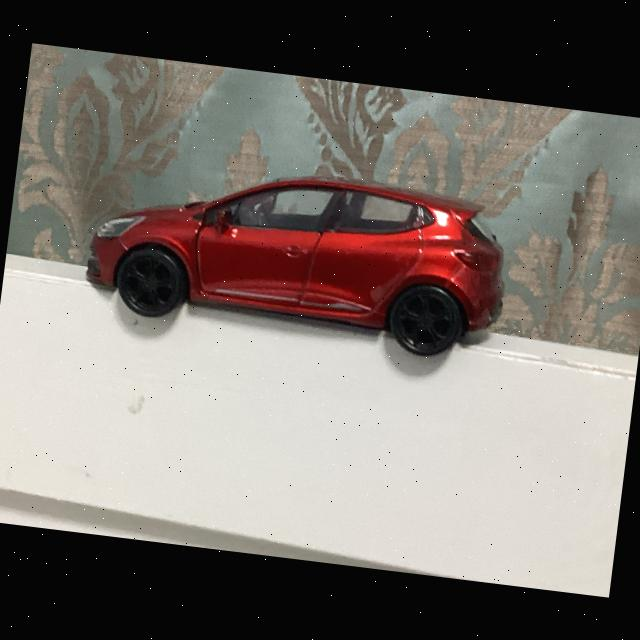Dogru_Jant: (394, 293, 454, 352), (121, 254, 176, 310)
